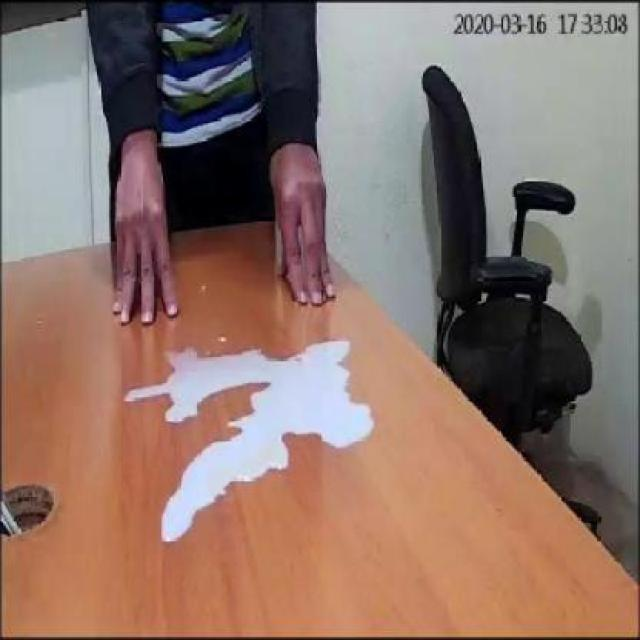spillage: (124, 340, 374, 542)
